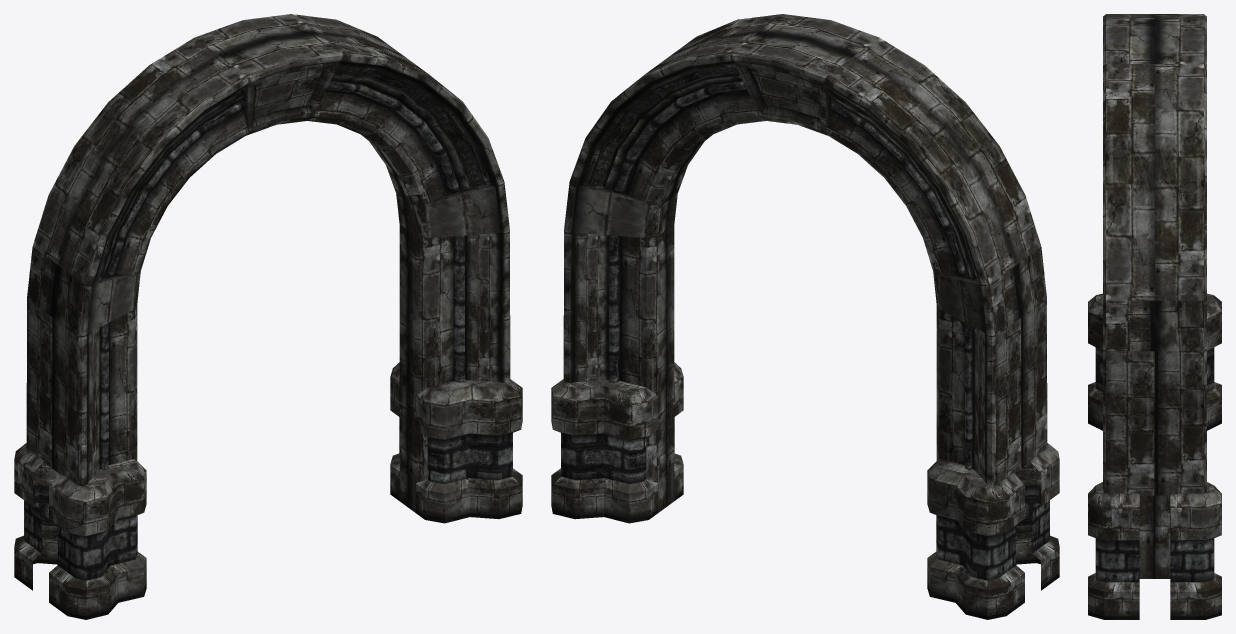
Rendered from door_frame_large_arched.dae.
3 renders of one model, left to right at view 1: azimuth 30°, elevation 25°; view 2: azimuth 150°, elevation 25°; view 3: azimuth 270°, elevation 25°, orthographic. The views are drawn at different scales.
Visible parts, largest first — view 1: polySurface141, polySurface145, polySurface143, polySurface138, polySurface148; view 2: polySurface145, polySurface141, polySurface143, polySurface138, polySurface148; view 3: polySurface141, polySurface145.
Boxes of the visible parts, box(x1,y1,x2,y2) form: polySurface141: box(49, 32, 522, 619); polySurface145: box(14, 14, 407, 590); polySurface143: box(105, 80, 460, 277); polySurface138: box(100, 235, 464, 469); polySurface148: box(98, 66, 483, 274); polySurface145: box(551, 32, 1024, 619); polySurface141: box(666, 14, 1059, 590); polySurface143: box(613, 80, 968, 277); polySurface138: box(609, 235, 973, 469); polySurface148: box(590, 66, 975, 274); polySurface141: box(1088, 14, 1154, 619); polySurface145: box(1155, 14, 1221, 619).
Size of the model in its own units: 6.21 by 6.54 by 1.66.
